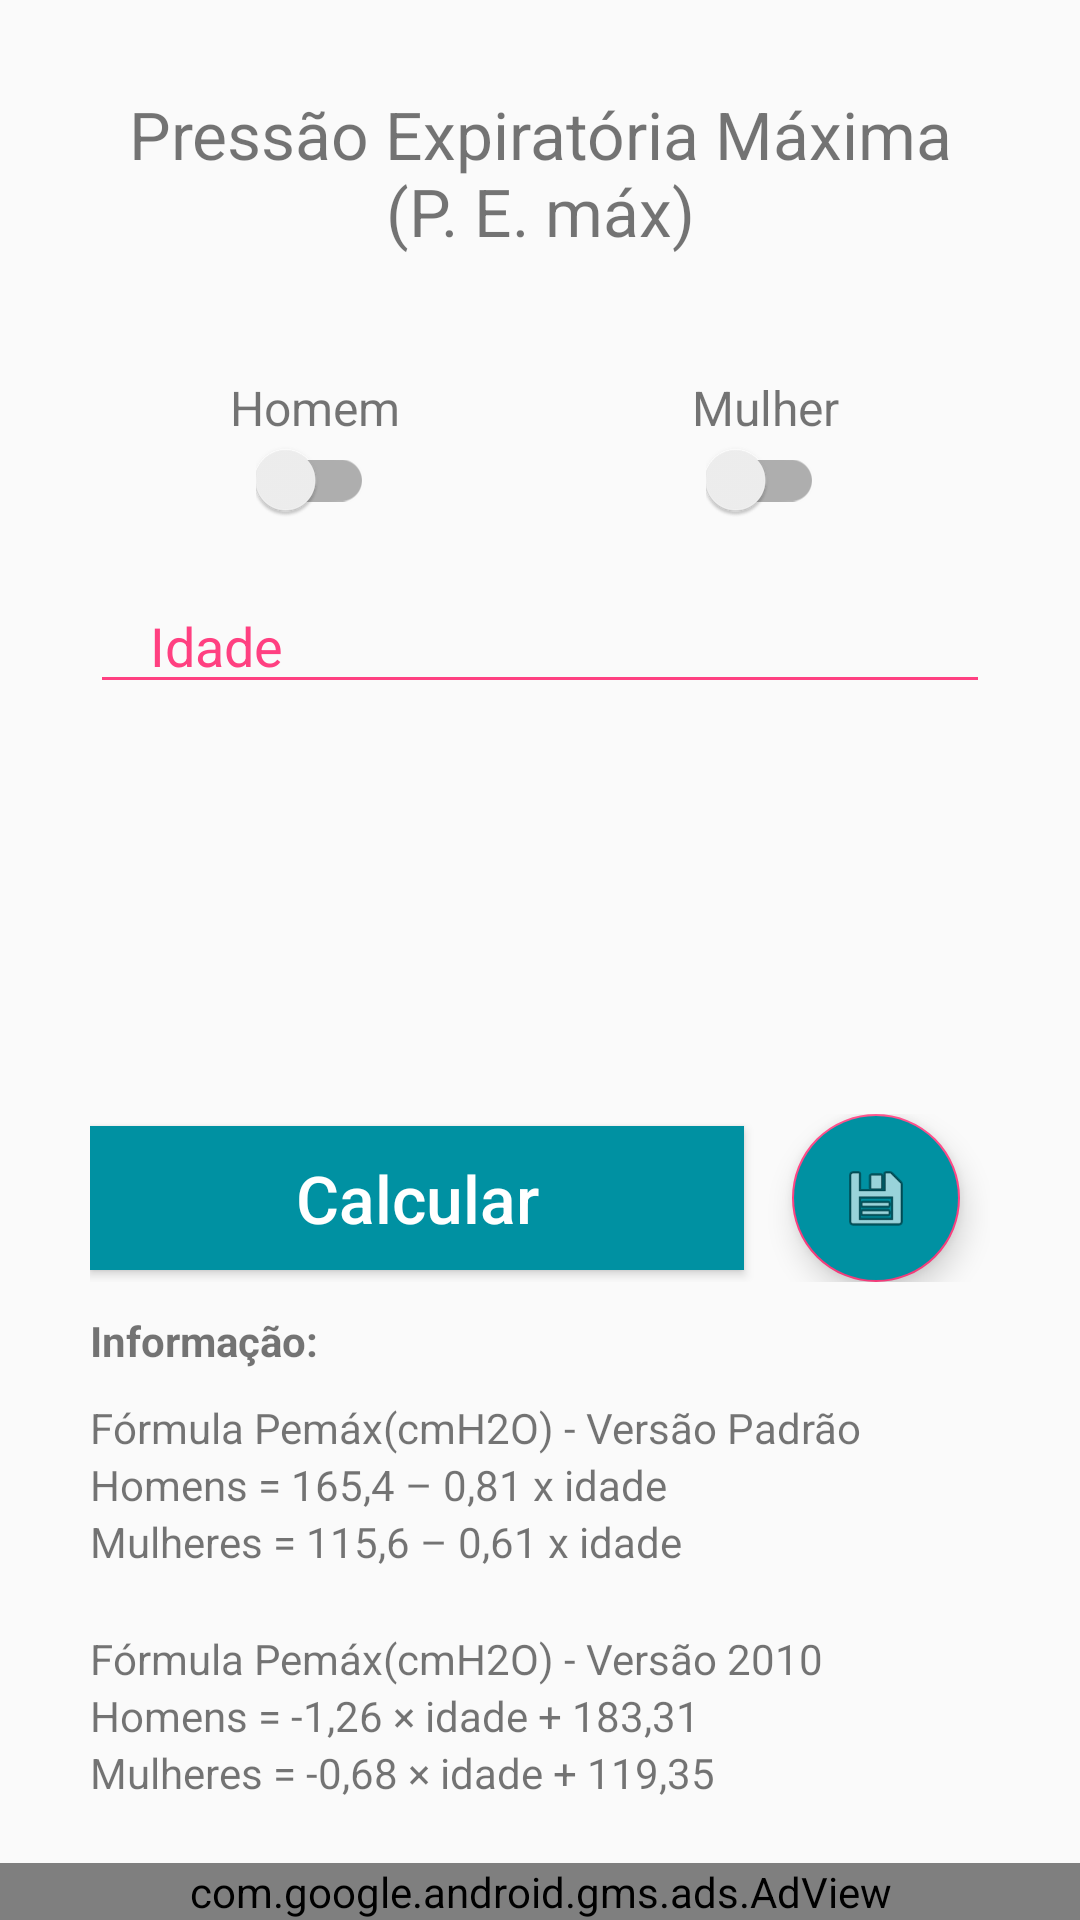

Icon click points for this 1080x1920 phone screenshot, format point (x, y):
save: point (876, 1198)
